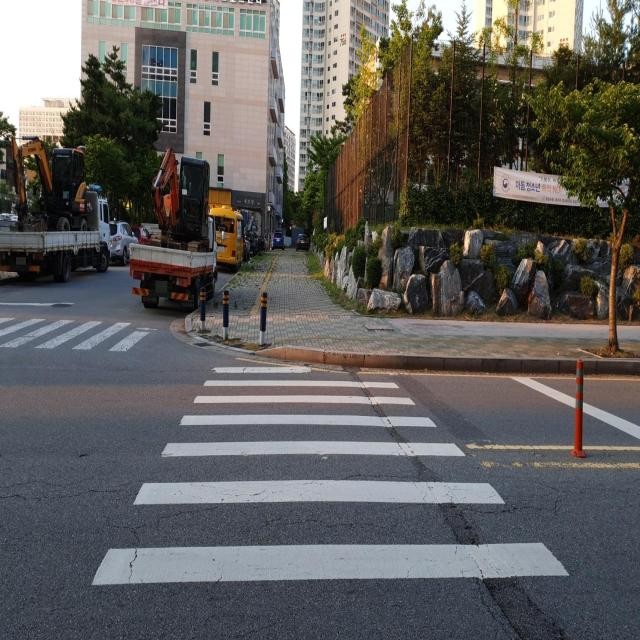횡단보도: (88, 359, 572, 591), (0, 312, 165, 352)
